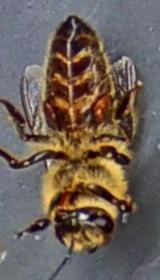varroa_mite: (84, 86, 118, 125), (36, 94, 66, 130)
